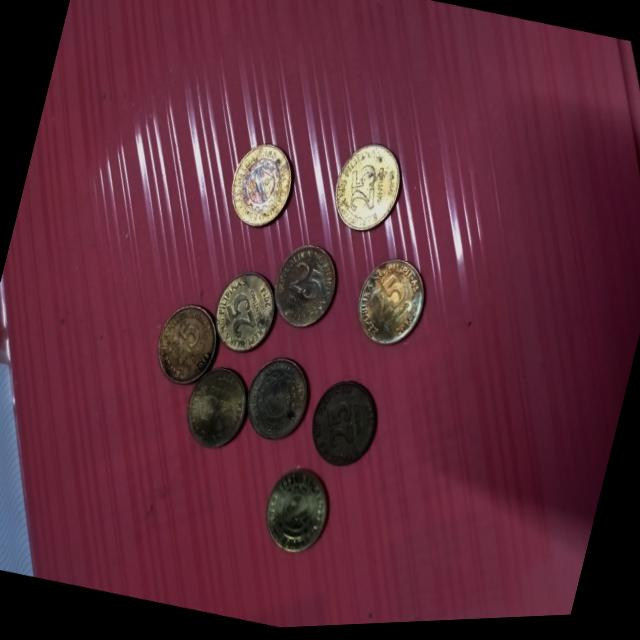25Cent_Old_Front: (217, 281, 270, 351)
